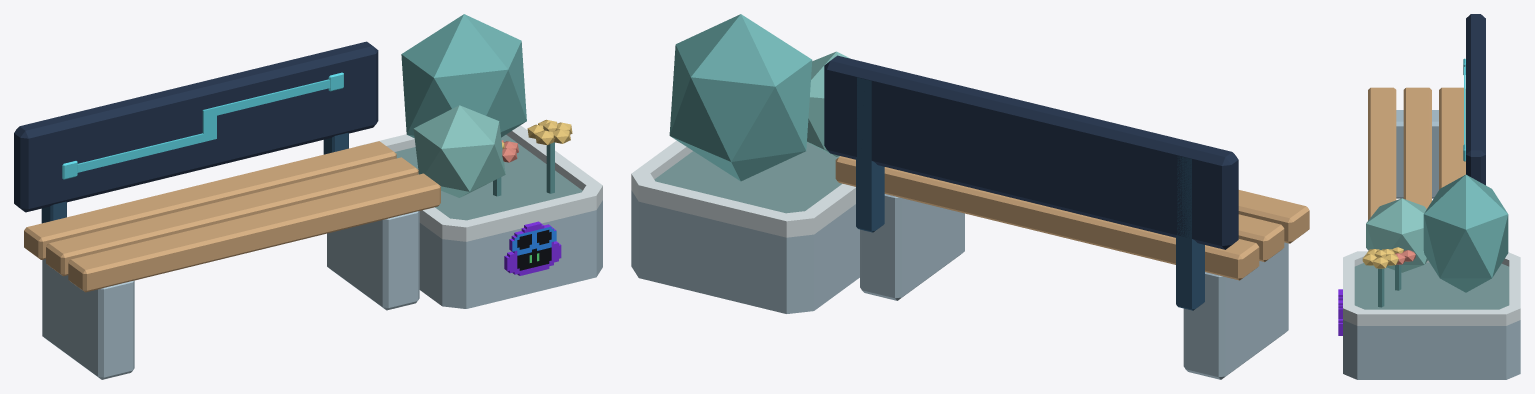
3 views of the same model, side by side, from view 1: azimuth 30°, elevation 25°; view 2: azimuth 150°, elevation 25°; view 3: azimuth 270°, elevation 25° (orthographic). The views are drawn at different scales.
Visible parts, largest first — view 1: campus_planter_bench; view 2: campus_planter_bench; view 3: campus_planter_bench.
Part boxes in pixels (x1,y1,x2,y2): campus_planter_bench: (14,14,602,379); campus_planter_bench: (631,14,1309,379); campus_planter_bench: (1338,14,1520,379).
Size of the model in its own units: 3.34 by 1.38 by 1.28.
Materials: 1 (1 with a texture image).
